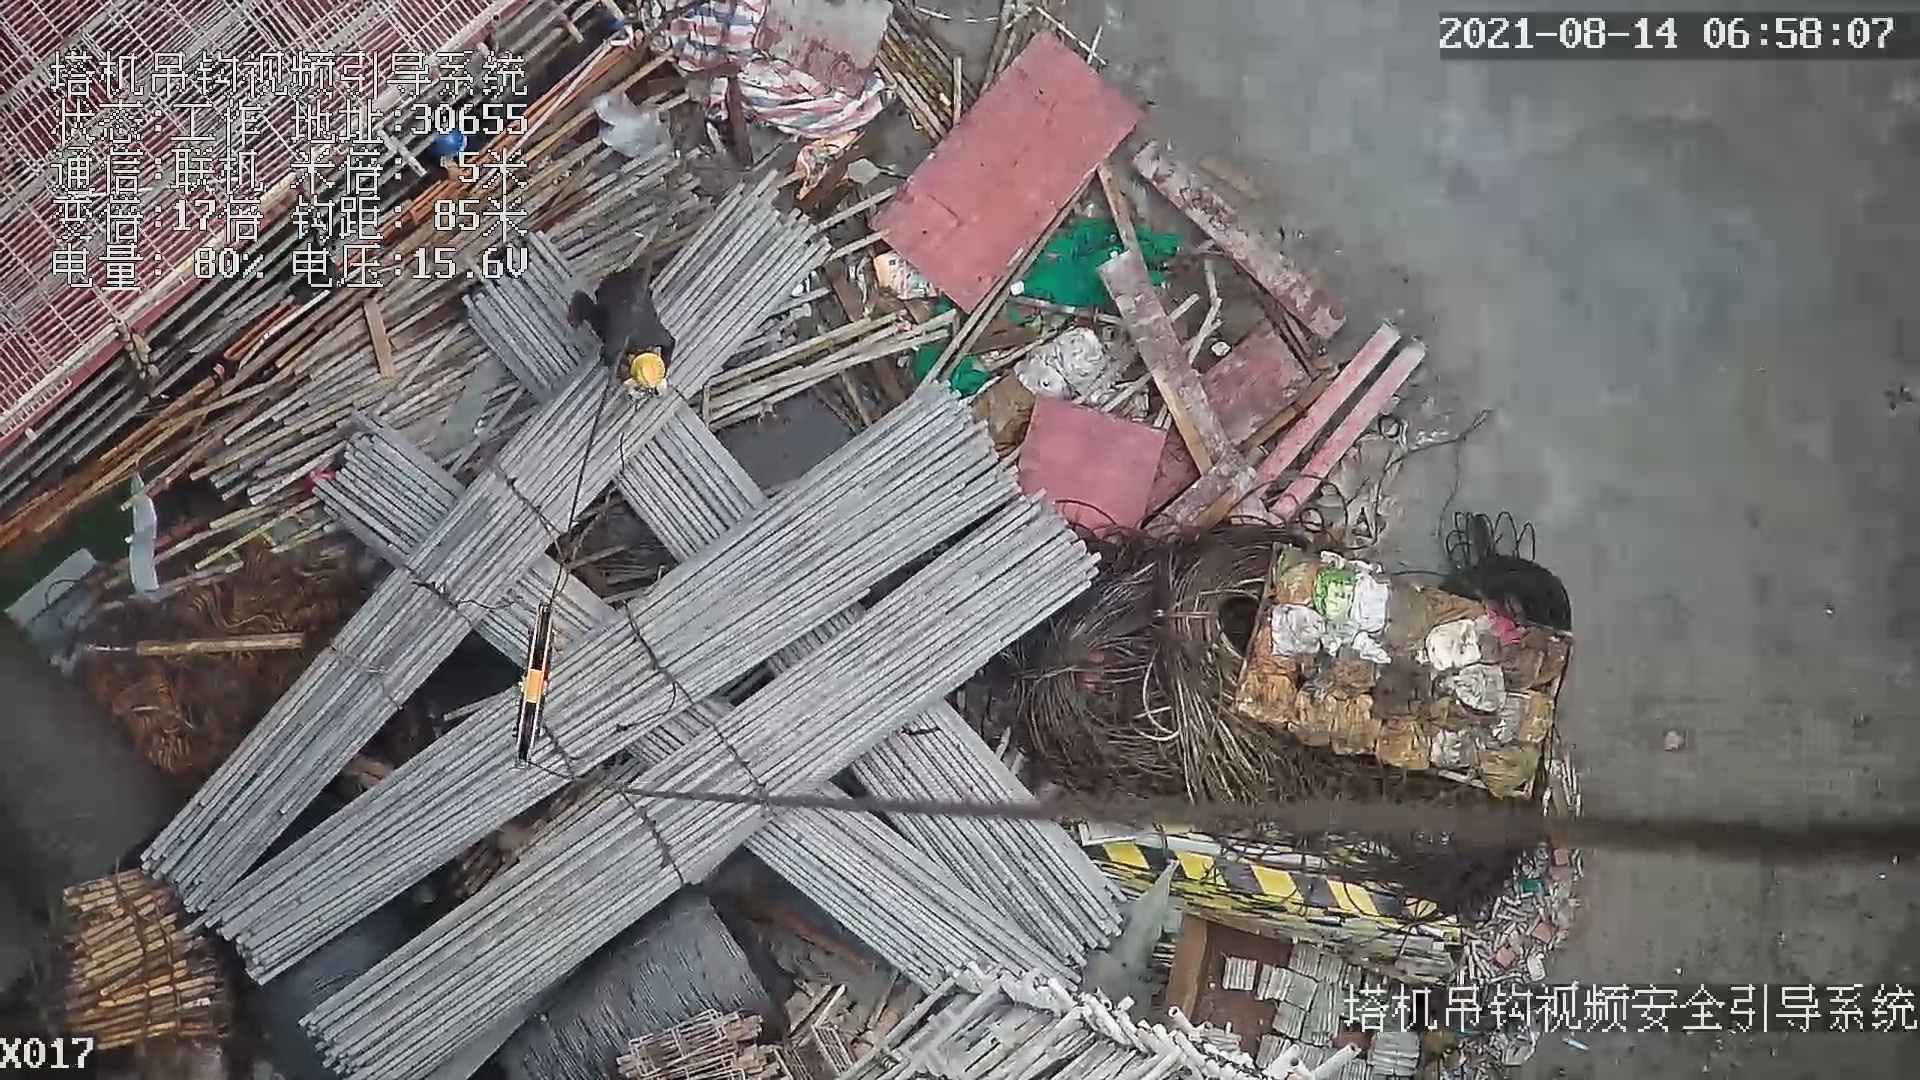helmet: (630, 352, 665, 389)
hook: (495, 594, 565, 772)
person: (559, 269, 678, 405)
rebar: (140, 180, 831, 910), (197, 383, 1024, 992), (300, 500, 1102, 1080), (846, 696, 1125, 964), (744, 784, 1092, 989)
scaffold: (58, 870, 223, 1049)
